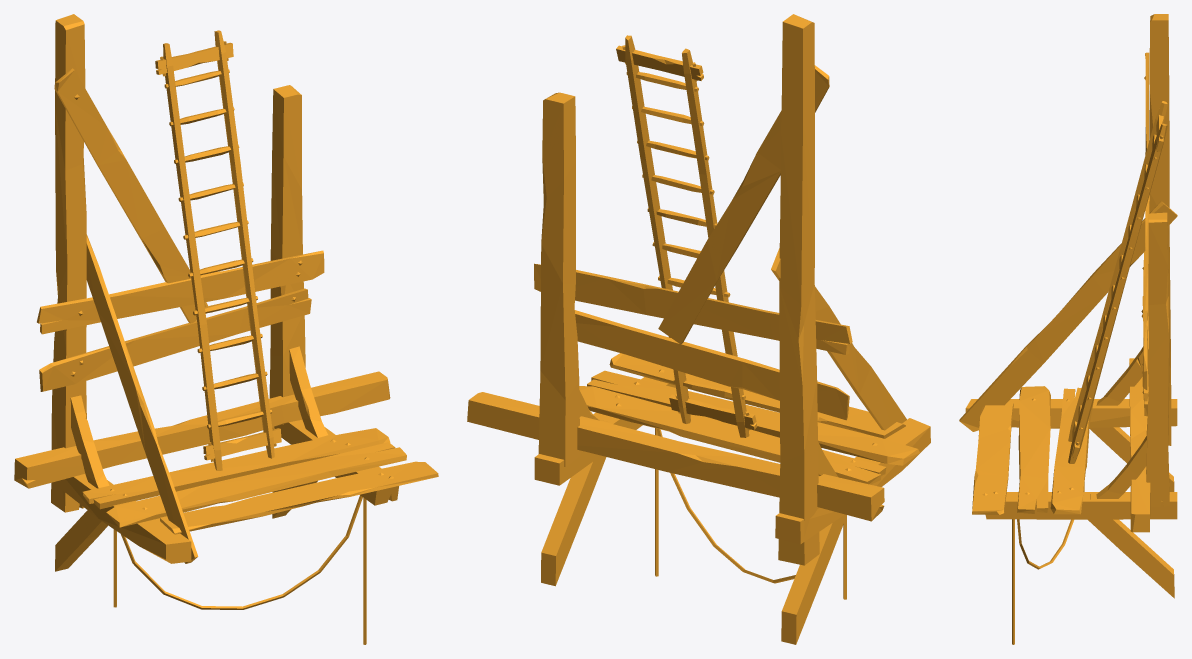
The model's file is SM_Scaffolding_A_Fantasy.fbx.
3 views of the same model, side by side, from view 1: azimuth 30°, elevation 25°; view 2: azimuth 150°, elevation 25°; view 3: azimuth 270°, elevation 25° (orthographic). The views are drawn at different scales.
Parts seen in each view (by area): view 1: SM_Scaffolding_A_Fantasy; view 2: SM_Scaffolding_A_Fantasy; view 3: SM_Scaffolding_A_Fantasy.
Part boxes in pixels (x1,y1,x2,y2): SM_Scaffolding_A_Fantasy: (14, 14, 438, 644); SM_Scaffolding_A_Fantasy: (467, 14, 930, 644); SM_Scaffolding_A_Fantasy: (959, 14, 1177, 644).
Size of the model in its own units: 3.43 by 5.5 by 2.03.
